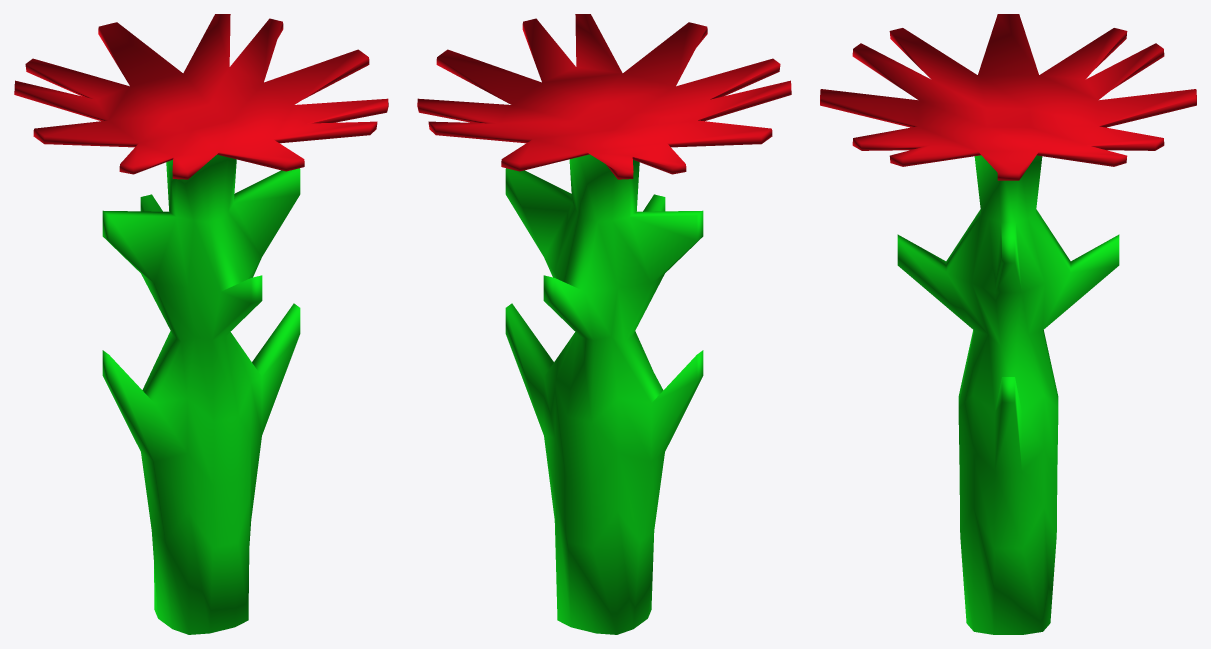
File: flower.glb
3 renders of one model, left to right at view 1: azimuth 30°, elevation 25°; view 2: azimuth 150°, elevation 25°; view 3: azimuth 270°, elevation 25°, orthographic.
Visible parts, largest first — view 1: Cube; view 2: Cube; view 3: Cube.
Boxes of the visible parts, <box> form: Cube: <box>14,14,388,634</box>; Cube: <box>417,14,791,634</box>; Cube: <box>820,14,1196,634</box>.
Size of the model in its own units: 0.4489 by 0.6886 by 0.4489.
